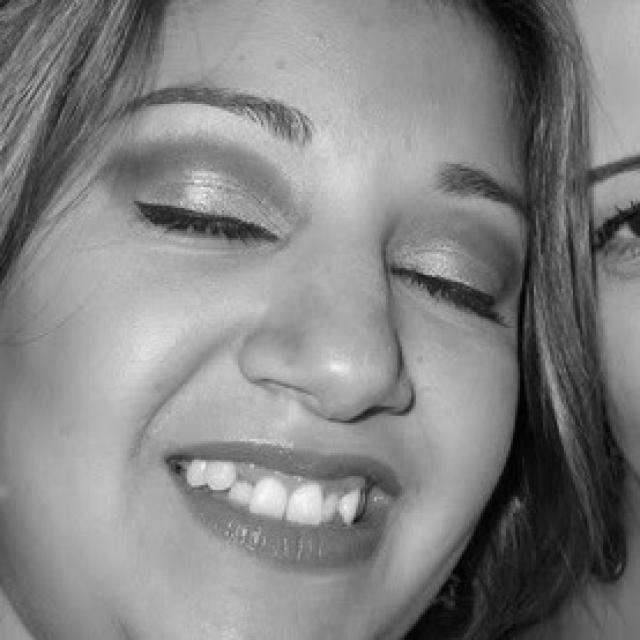real: (42, 0, 515, 625), (133, 150, 501, 332)
